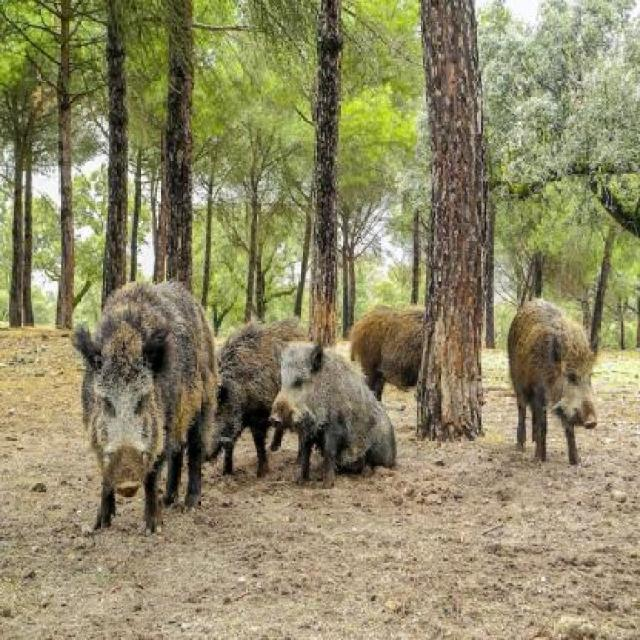wildboar: (72, 273, 223, 541), (197, 313, 341, 482), (266, 338, 400, 488), (344, 300, 488, 425), (504, 295, 601, 470)
